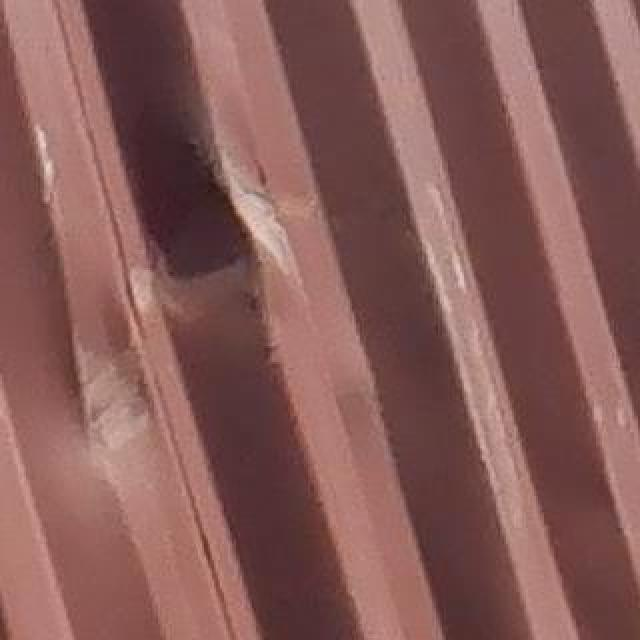dent: (1, 147, 401, 509)
